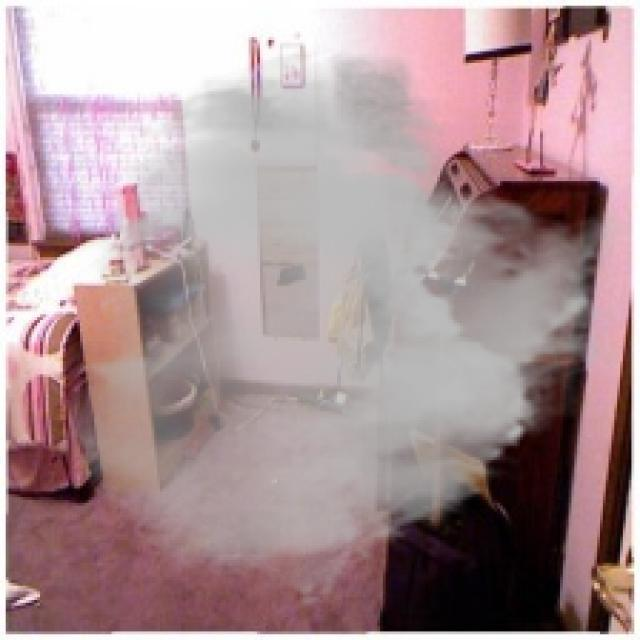Smoke: (63, 46, 632, 608)
